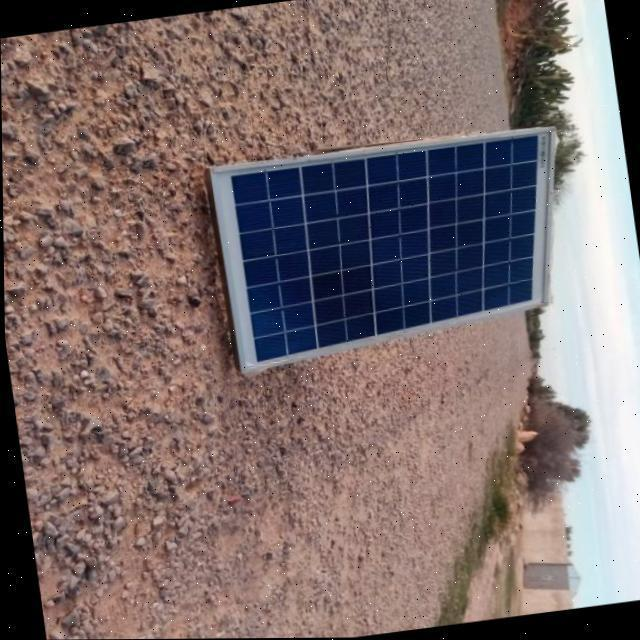Normal Solar Panel: (208, 126, 581, 372)
